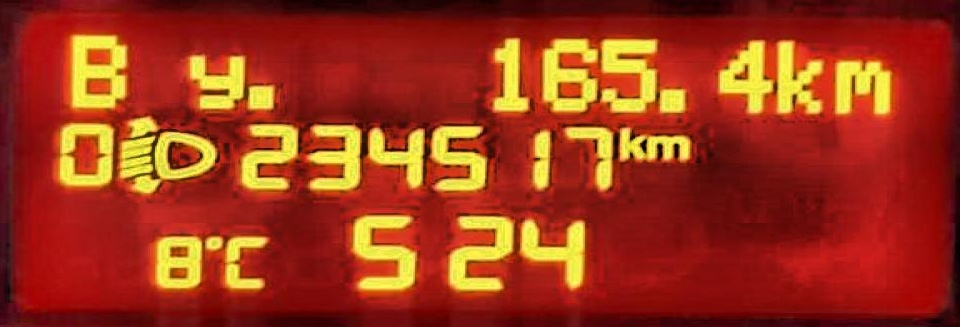-: (656, 82, 691, 118), (243, 79, 279, 110)
0: (51, 116, 115, 189)
1: (488, 30, 528, 115), (521, 123, 558, 193)
2: (443, 205, 516, 291), (239, 120, 298, 195)
3: (306, 118, 360, 193)
4: (518, 210, 591, 294), (715, 31, 770, 120), (365, 118, 425, 189)
5: (343, 210, 418, 295), (598, 33, 656, 114), (430, 119, 485, 191)
6: (536, 33, 596, 113)
7: (566, 123, 611, 193)
8: (148, 229, 204, 291)
X: (63, 31, 128, 109), (775, 35, 826, 118), (831, 55, 893, 116), (183, 50, 243, 107), (223, 233, 271, 292), (645, 130, 690, 161), (616, 123, 645, 160)
